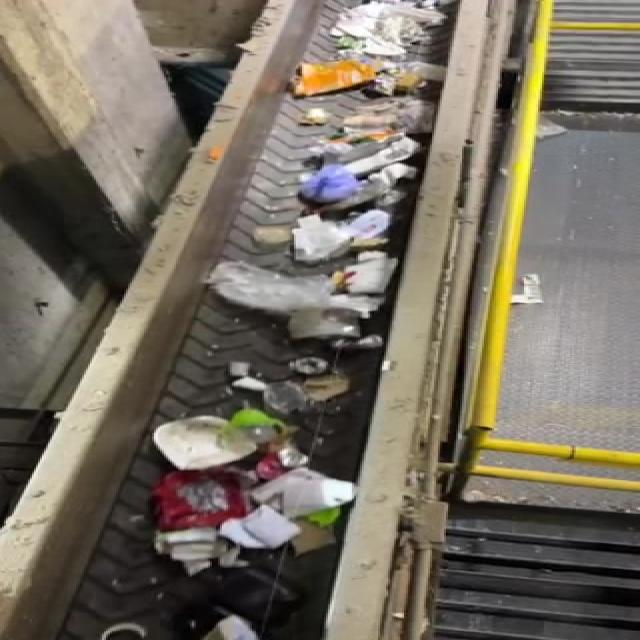pet: (228, 399, 293, 459)
ps: (112, 409, 258, 484)
